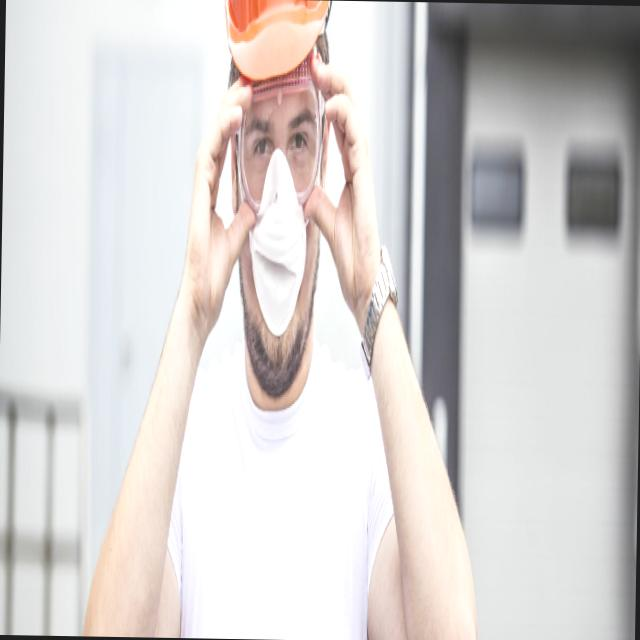goggles: (227, 70, 326, 232)
helmet: (211, 0, 346, 116)
no-vest: (178, 345, 385, 640)
